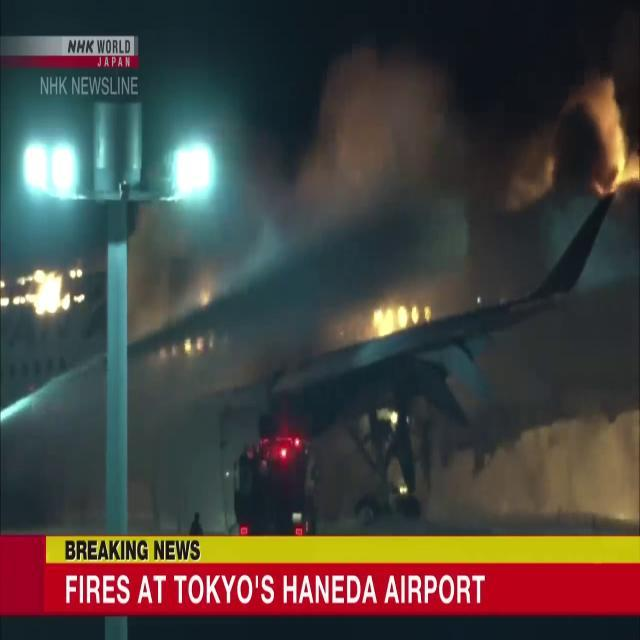Fire: (582, 69, 640, 197)
Smoke: (225, 0, 640, 302)
